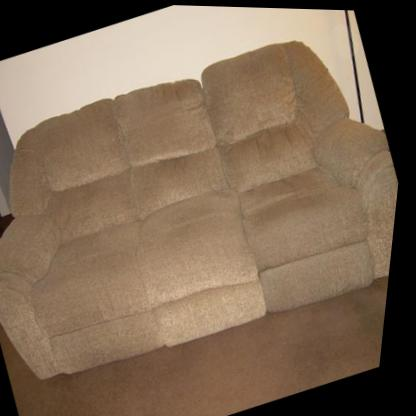Sofa: (0, 0, 416, 409)
